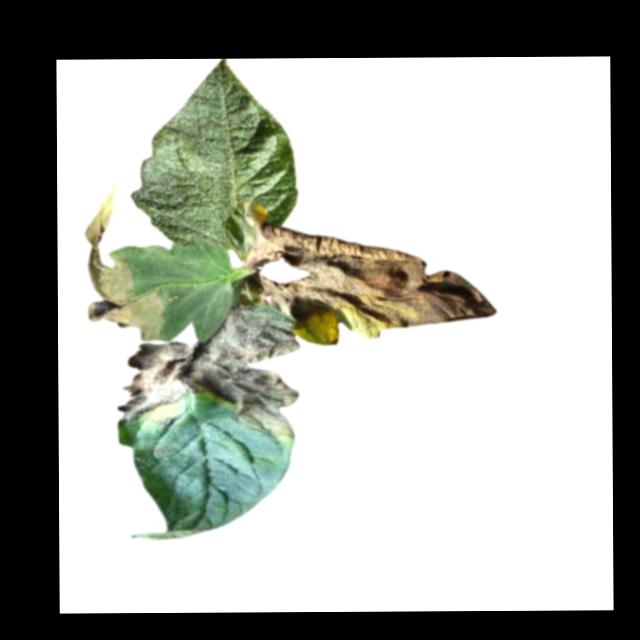Late_blight: (239, 202, 497, 347), (113, 304, 301, 442), (76, 175, 149, 343)
healthy: (130, 59, 298, 246)
